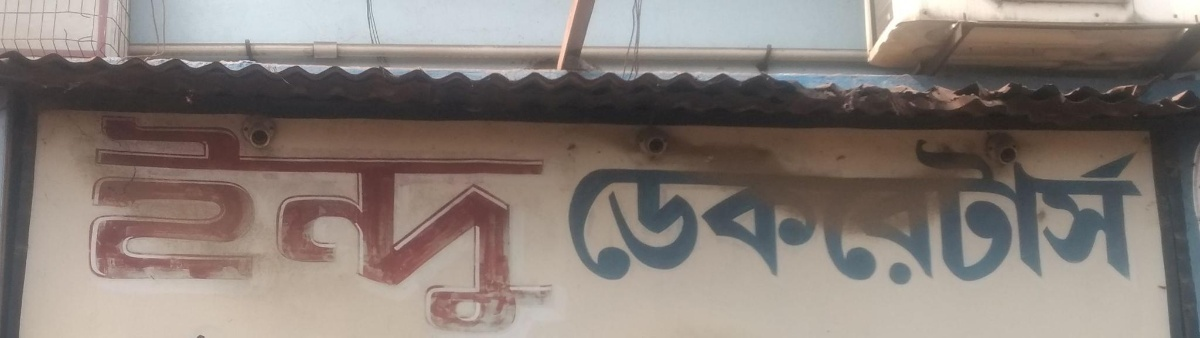text: (97, 113, 112, 338), (113, 113, 128, 338), (129, 113, 144, 338), (145, 113, 160, 338), (161, 113, 176, 338), (177, 113, 192, 338), (193, 113, 208, 338), (209, 113, 224, 338), (225, 113, 240, 338), (241, 113, 256, 338), (257, 113, 272, 338), (273, 113, 288, 338), (289, 113, 304, 338), (305, 113, 320, 338), (321, 113, 336, 338), (337, 113, 352, 338), (353, 113, 368, 338), (369, 113, 384, 338), (385, 113, 400, 338), (401, 113, 416, 338), (417, 113, 432, 338), (433, 113, 448, 338), (449, 113, 464, 338), (465, 113, 480, 338), (481, 113, 496, 338), (497, 113, 512, 338), (513, 113, 528, 338), (529, 113, 544, 338), (85, 113, 96, 338), (577, 134, 592, 286), (593, 134, 608, 286), (609, 134, 624, 286), (625, 134, 640, 286), (641, 134, 656, 286), (657, 134, 672, 286), (673, 134, 688, 286), (689, 134, 704, 286), (705, 134, 720, 286), (721, 134, 736, 286), (737, 134, 752, 286), (753, 134, 768, 286), (769, 134, 784, 286), (785, 134, 800, 286), (801, 134, 816, 286), (817, 134, 832, 286), (833, 134, 848, 286), (849, 134, 864, 286), (865, 134, 880, 286), (881, 134, 896, 286), (897, 134, 912, 286), (913, 134, 928, 286), (929, 134, 944, 286), (945, 134, 960, 286), (961, 134, 976, 286), (977, 134, 992, 286), (993, 134, 1008, 286), (1009, 134, 1024, 286), (1025, 134, 1040, 286), (1041, 134, 1056, 286), (1057, 134, 1072, 286), (1073, 134, 1088, 286), (1089, 134, 1104, 286), (1105, 134, 1120, 286), (1121, 134, 1136, 286), (545, 113, 554, 338), (569, 134, 576, 286), (1137, 134, 1144, 286)
